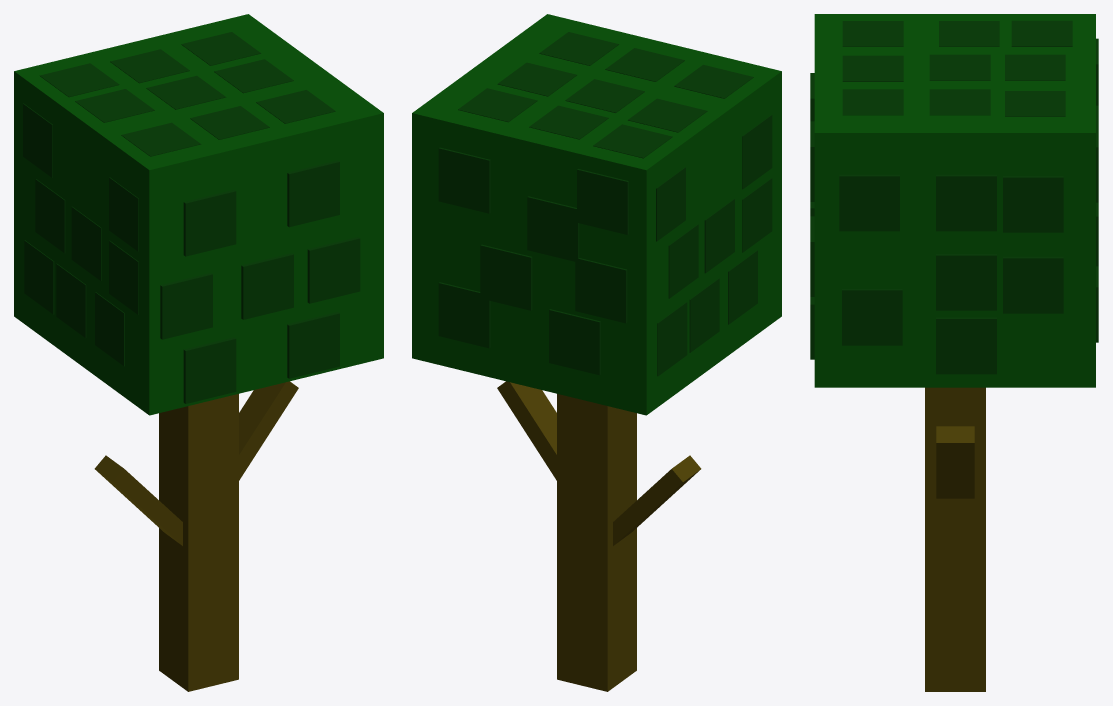
File: treejoh.fbx
The picture shows the model from 3 angles, left to right: view 1: azimuth 30°, elevation 25°; view 2: azimuth 150°, elevation 25°; view 3: azimuth 270°, elevation 25°; orthographic projection. The views are drawn at different scales.
Visible parts, largest first — view 1: pCube1, pasted__pasted__pasted__pasted__pasted__pasted__pasted__past (×17), pCube2, pasted__pCube4 (×2), pasted__pasted__pCube4 (×2), pasted__pasted__pasted__pCube4, pasted__pasted__pasted__pasted__pCube4, pCube4, pasted__pCube3, pCube3; view 2: pCube1, pasted__pasted__pasted__pasted__pasted__pasted__pasted__past (×24), pCube2, pasted__pCube3, pCube3; view 3: pCube1, pasted__pasted__pasted__pasted__pasted__pasted__pasted__past (×13), pCube2, pasted__pasted__pasted__pasted__pasted__pCube4, pasted__pasted__pasted__pasted__pasted__pasted__pCube4, pasted__pasted__pasted__pasted__pasted__pasted__pasted__pCub, pasted__pCube3.
Boxes of the visible parts, x1,y1,x2,y2 form: pCube1: (14,14,383,415); pasted__pasted__pasted__pasted__pasted__pasted__pasted__past (×17): (23,32,335,366); pCube2: (159,394,238,691); pasted__pCube4 (×2): (287,160,360,303); pasted__pasted__pCube4 (×2): (160,273,339,378); pasted__pasted__pasted__pCube4: (183,337,236,403); pasted__pasted__pasted__pasted__pCube4: (183,190,236,256); pCube4: (241,253,293,319); pasted__pCube3: (239,381,298,480); pCube3: (94,455,182,545); pCube1: (412,14,781,415); pasted__pasted__pasted__pasted__pasted__pasted__pasted__past (×24): (438,32,772,376); pCube2: (557,394,636,691); pasted__pCube3: (497,381,556,480); pCube3: (613,455,701,545); pCube1: (814,14,1095,387); pasted__pasted__pasted__pasted__pasted__pasted__pasted__past (×13): (842,20,1072,374); pCube2: (925,387,985,691); pasted__pasted__pasted__pasted__pasted__pCube4: (839,174,899,231); pasted__pasted__pasted__pasted__pasted__pasted__pCube4: (936,174,996,231); pasted__pasted__pasted__pasted__pasted__pasted__pasted__pCub: (936,254,996,310); pasted__pCube3: (936,426,974,498).
Bounding box in the file's own units: 4.7 × 11 × 4.74.
